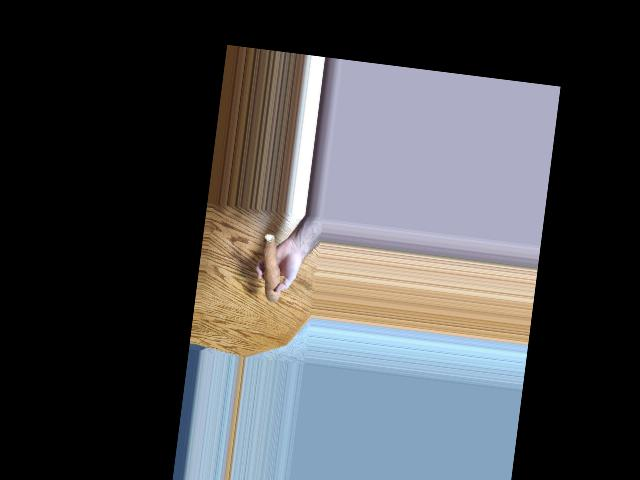sweet_potato: (254, 227, 285, 305)
